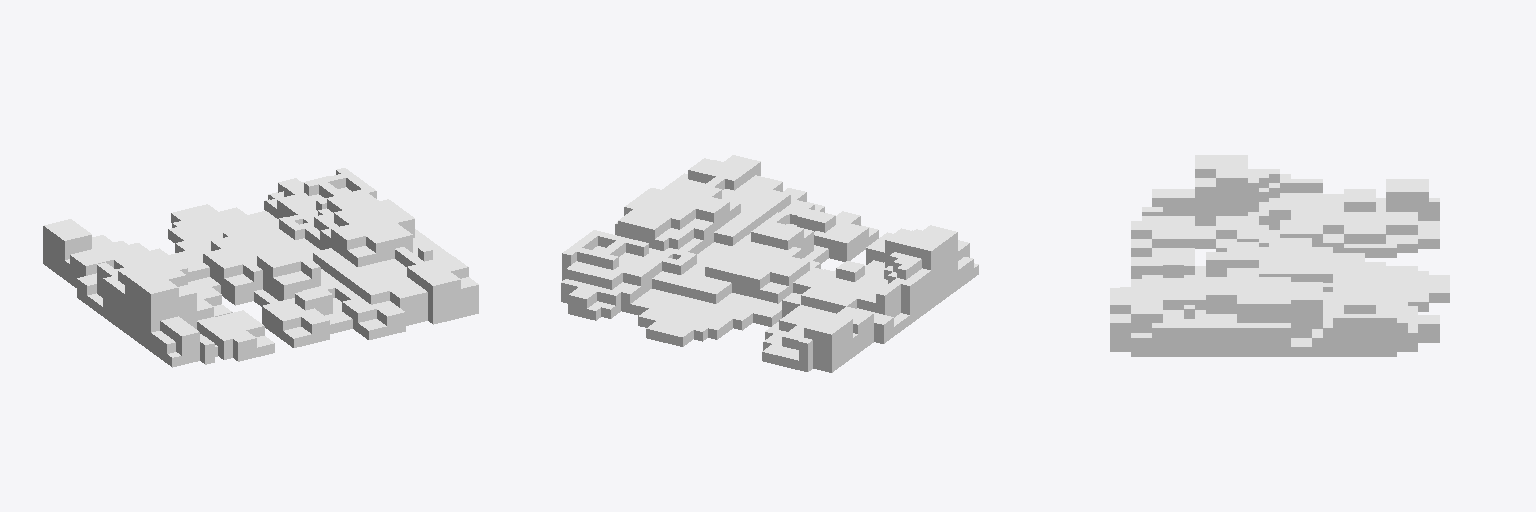
The model's file is opentrash2.obj.
3 renders of one model, left to right at view 1: azimuth 30°, elevation 25°; view 2: azimuth 150°, elevation 25°; view 3: azimuth 270°, elevation 25°, orthographic.
Visible parts, largest first — view 1: object 1; view 2: object 1; view 3: object 1.
Boxes of the visible parts, box(x1,y1,x2,y2) form: object 1: box(43, 168, 478, 367); object 1: box(561, 155, 978, 372); object 1: box(1110, 155, 1449, 356).
Size of the model in its own units: 3.2 by 0.6 by 3.2.